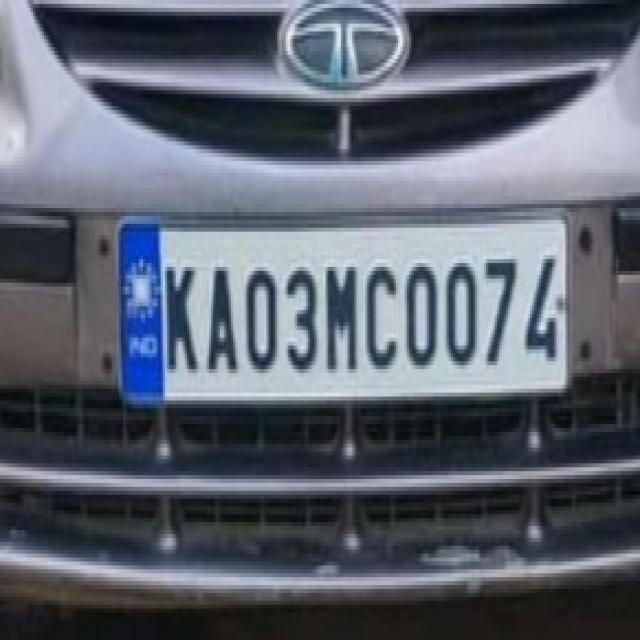0: (439, 260, 481, 378), (240, 254, 280, 372), (404, 258, 439, 375)
3: (282, 258, 320, 378)
4: (523, 243, 564, 374)
7: (481, 251, 521, 375)
A: (200, 250, 242, 378)
C: (363, 252, 401, 380)
K: (164, 253, 202, 382)
M: (320, 254, 362, 378)
